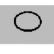no answer: (10, 10, 48, 35)
